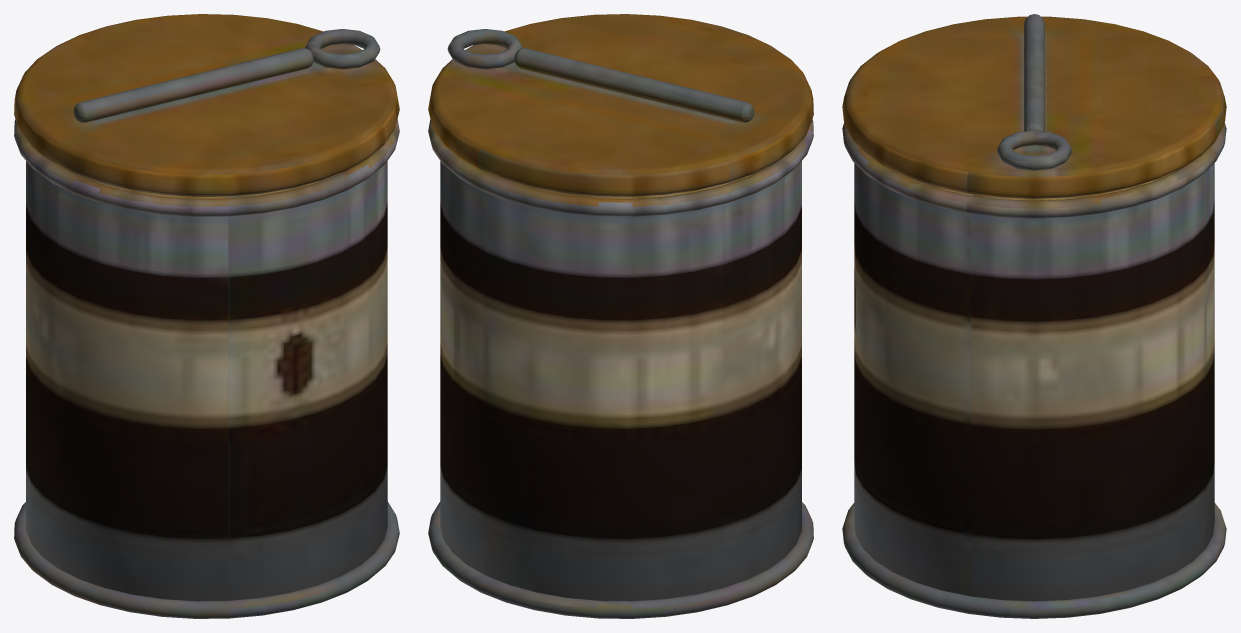
File: coffee_tin.glb
3 renders of one model, left to right at view 1: azimuth 30°, elevation 25°; view 2: azimuth 150°, elevation 25°; view 3: azimuth 270°, elevation 25°, orthographic.
Parts seen in each view (by area): view 1: coffee_tin; view 2: coffee_tin; view 3: coffee_tin.
Part boxes in pixels (x1=…): coffee_tin: x1=14, y1=14, x2=399, y2=618; coffee_tin: x1=428, y1=14, x2=813, y2=618; coffee_tin: x1=842, y1=14, x2=1226, y2=618.
Bounding box in the file's own units: 0.1282 × 0.172 × 0.1279.
1 material, 1 textured.
